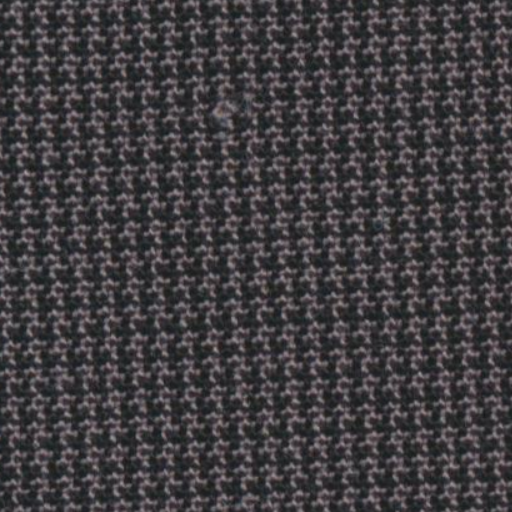PoDong: (178, 74, 280, 156)
